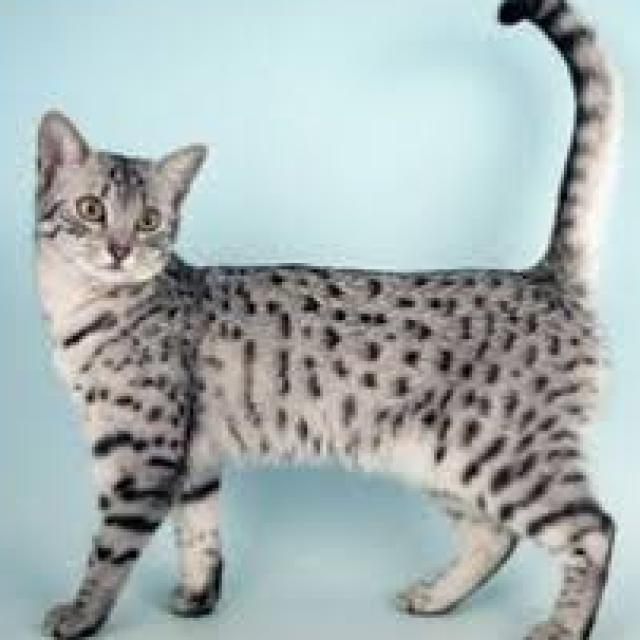Egyptian Mau: (25, 0, 621, 640)
